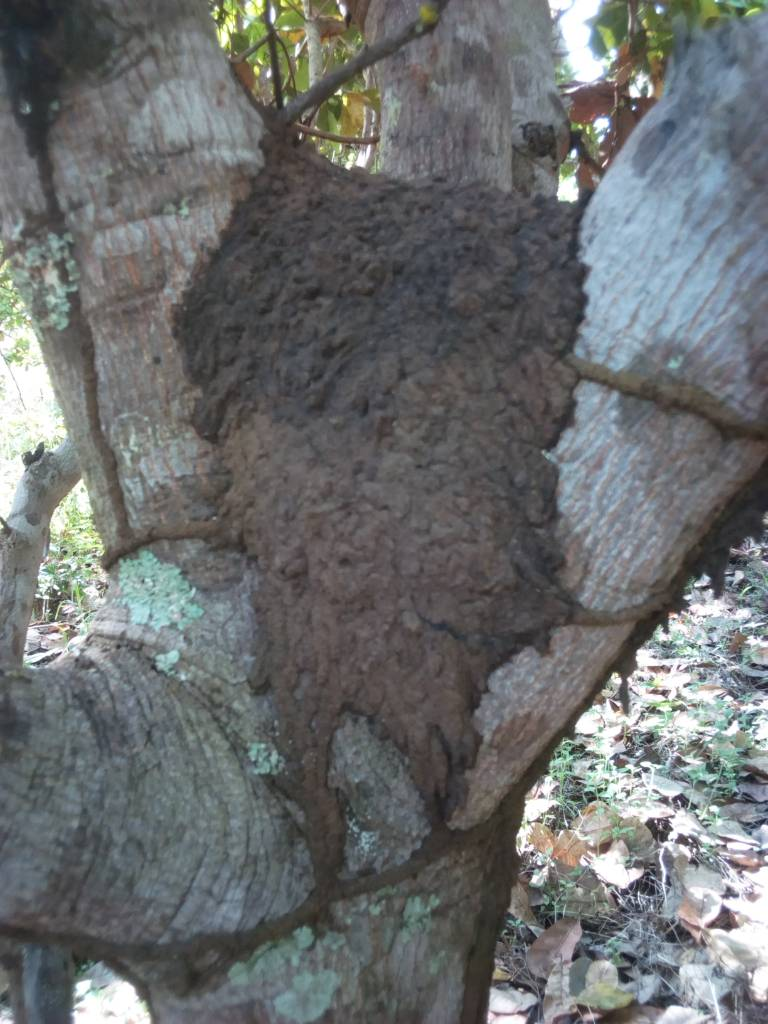Termites: (200, 168, 559, 892), (36, 53, 200, 569), (593, 355, 760, 444), (18, 924, 240, 949)
